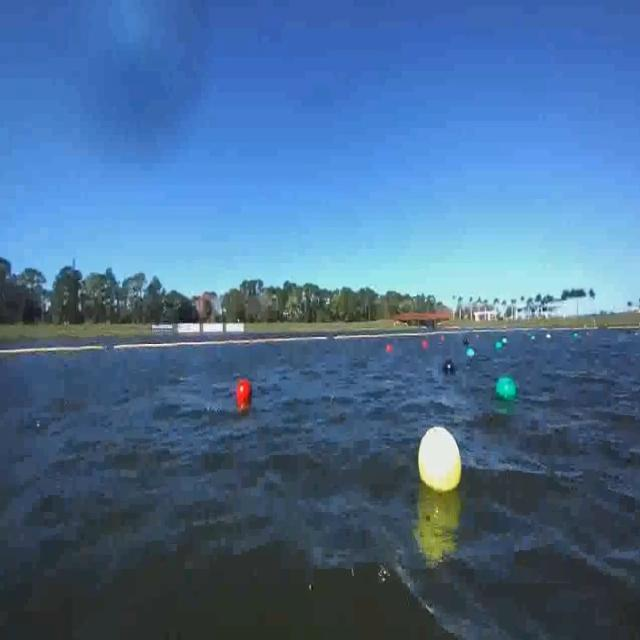black-buoy: (444, 358, 456, 374)
green-buoy: (496, 374, 516, 401)
red-buoy: (235, 377, 249, 401), (387, 344, 392, 354)
yellow-buoy: (417, 426, 461, 493)
